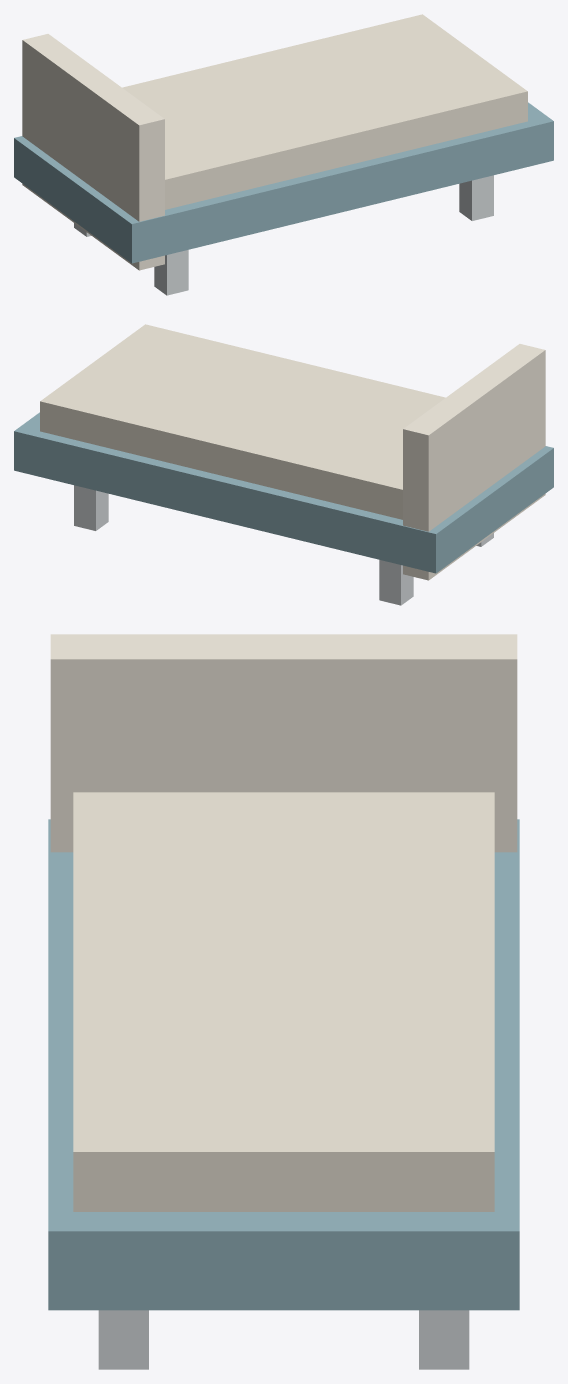
Rendered from prop_bed_v4_ShadowProxy.glb.
The picture shows the model from 3 angles, top to bottom: view 1: azimuth 30°, elevation 25°; view 2: azimuth 150°, elevation 25°; view 3: azimuth 270°, elevation 25°; orthographic projection. The views are drawn at different scales.
Parts seen in each view (by area): view 1: prop_bed_v4_ShadowProxy / Primary assembly; view 2: prop_bed_v4_ShadowProxy / Primary assembly; view 3: prop_bed_v4_ShadowProxy / Primary assembly.
Part boxes in pixels (x1,y1,x2,y2): prop_bed_v4_ShadowProxy / Primary assembly: [14, 14, 553, 295]; prop_bed_v4_ShadowProxy / Primary assembly: [14, 324, 553, 605]; prop_bed_v4_ShadowProxy / Primary assembly: [48, 634, 519, 1369].
Size of the model in its own units: 2.13 by 0.91 by 1.03.
